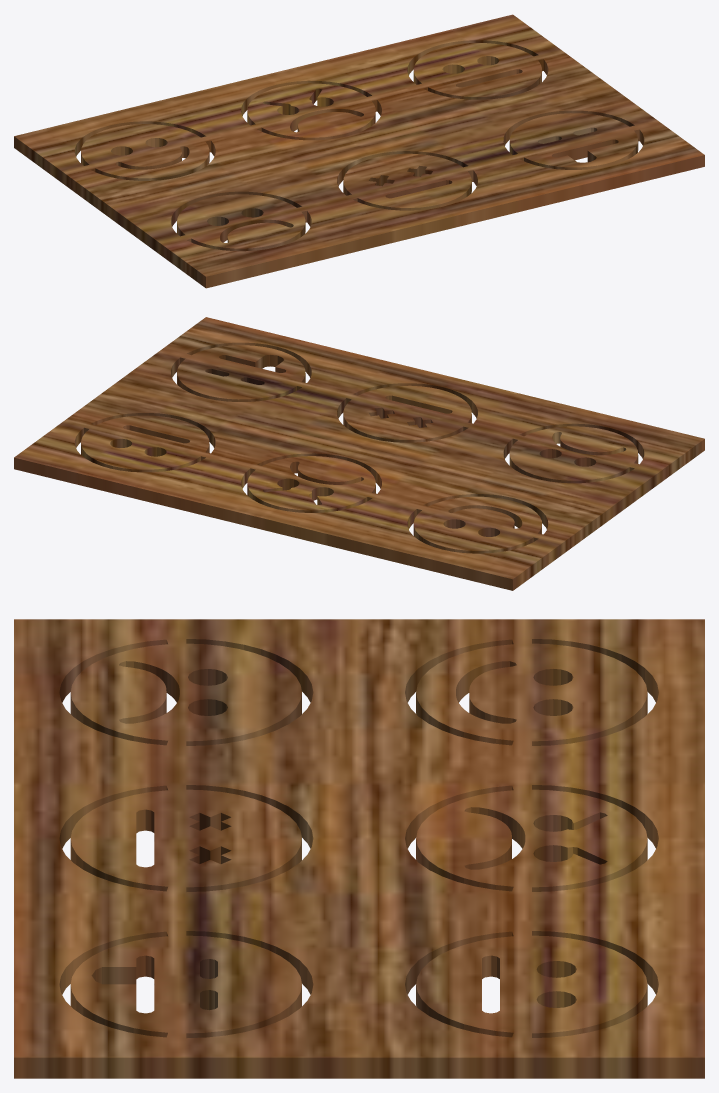
File: medwood.glb
The picture shows the model from 3 angles, top to bottom: view 1: azimuth 30°, elevation 25°; view 2: azimuth 150°, elevation 25°; view 3: azimuth 270°, elevation 25°; orthographic projection. The views are drawn at different scales.
Size of the model in its own units: 0.118 by 0.00264 by 0.0787.
Materials: 1 (1 with a texture image).
